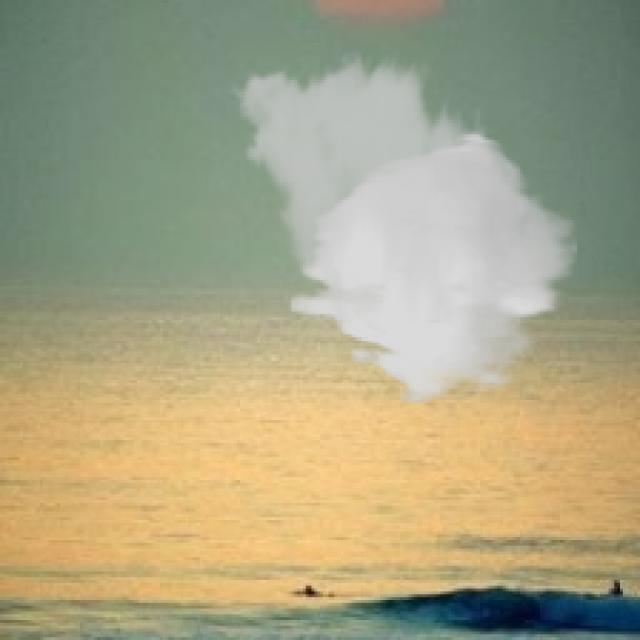Smoke: (222, 48, 578, 406)
